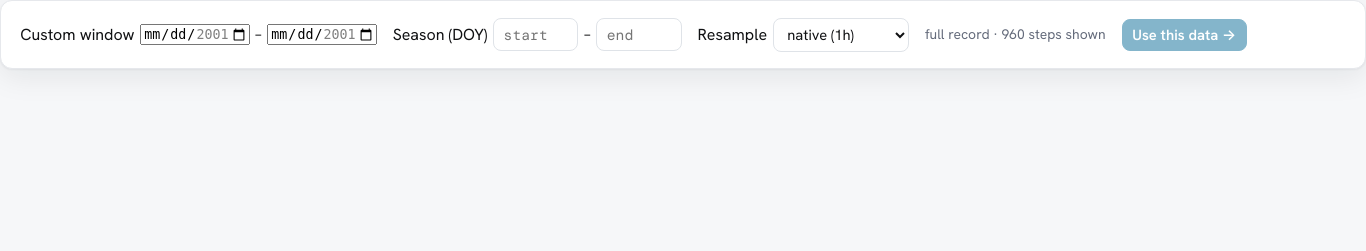
Scenario: review repairs: what the bar says before "Use this data" › a resample states the coverage rule and the empty and partial bins (compute-02, subset-02)
The image size is (1366, 251).
Select "monthly totals" in the dropdown labelled "Resample" at (841, 35), box [773,18,909,52]
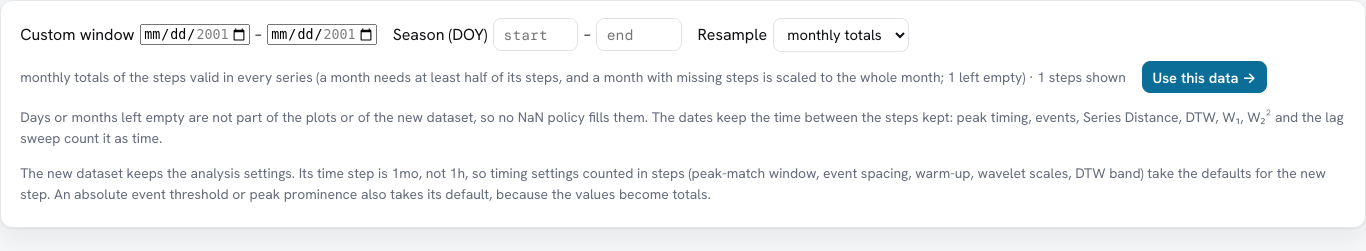
Now the text with class "muted" shows "monthly totals of the steps valid in every series (a month needs at least half of its steps, and a month with missing steps is scaled to the whole month; 1 left", box [20,68,1026,86]
Now the text with class "muted" shows "1 steps shown", box [20,67,1126,88]
